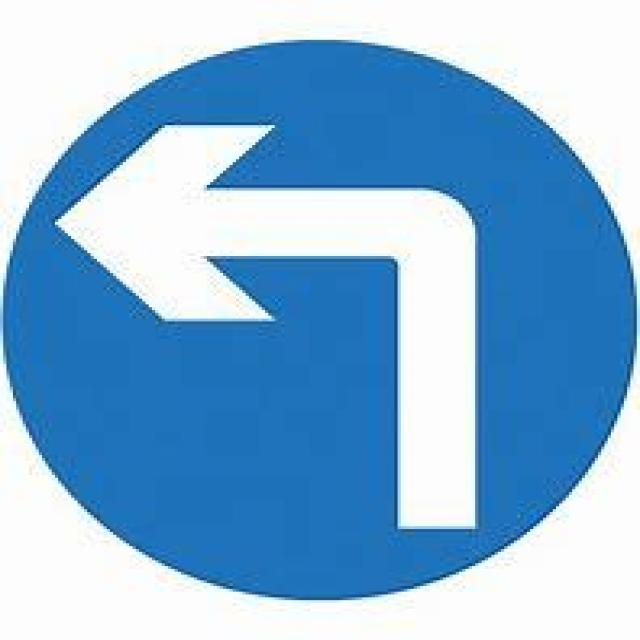COMPULSARY_TURN_LEFT_AHEAD: (0, 34, 637, 597)
